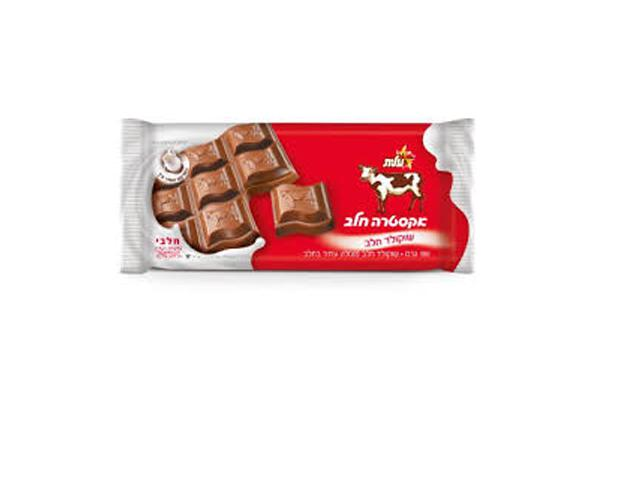chocolate: (108, 114, 476, 274)
